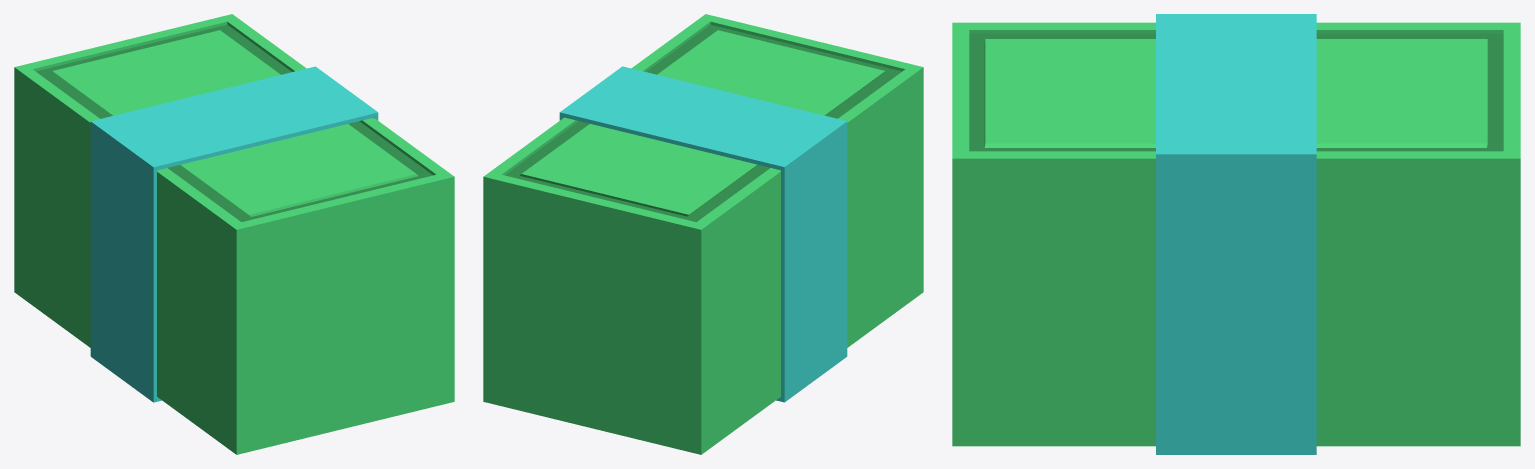
File: MoneyStacks.fbx
3 views of the same model, side by side, from view 1: azimuth 30°, elevation 25°; view 2: azimuth 150°, elevation 25°; view 3: azimuth 270°, elevation 25° (orthographic). The views are drawn at different scales.
Visible parts, largest first — view 1: Money; view 2: Money; view 3: Money.
Part boxes in pixels (left/top/right/bottom): Money: left=14, top=14, right=454, bottom=454; Money: left=483, top=14, right=923, bottom=454; Money: left=952, top=14, right=1520, bottom=454.
Bounding box in the file's own units: 206 × 206 × 353.
